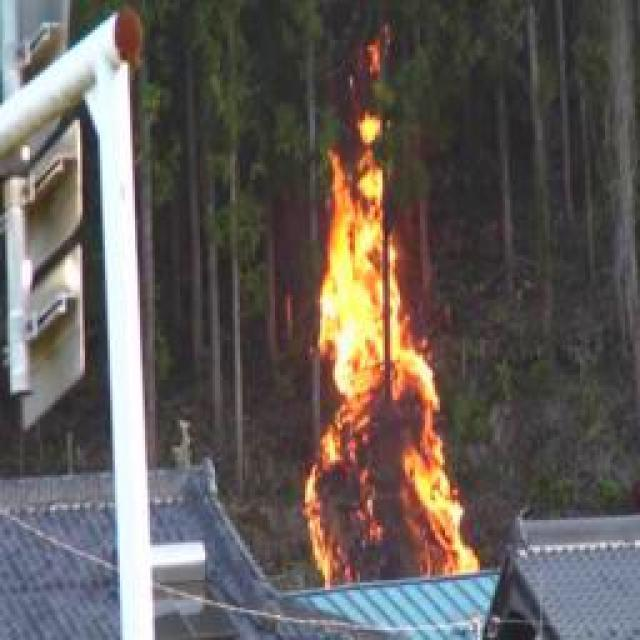Fire: (304, 146, 478, 585)
